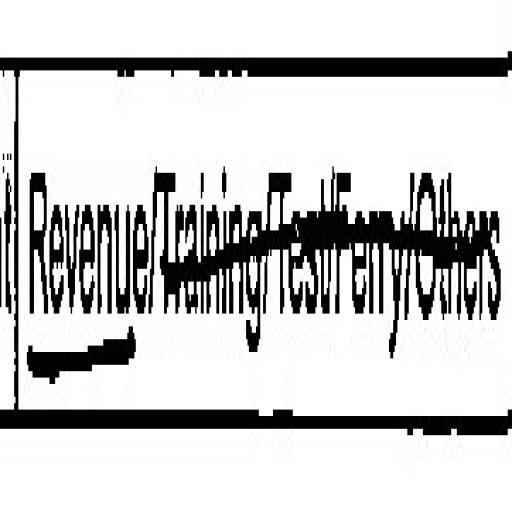check: (18, 0, 152, 492)
